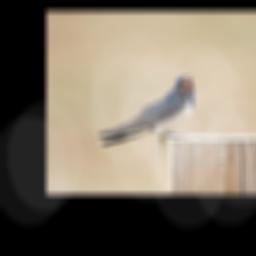Swallow: (67, 73, 196, 156)
